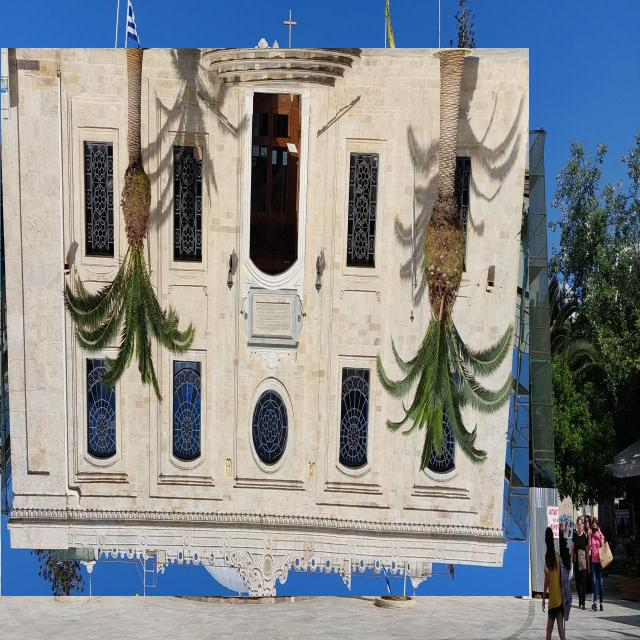Agios Titos: (2, 49, 530, 597)
